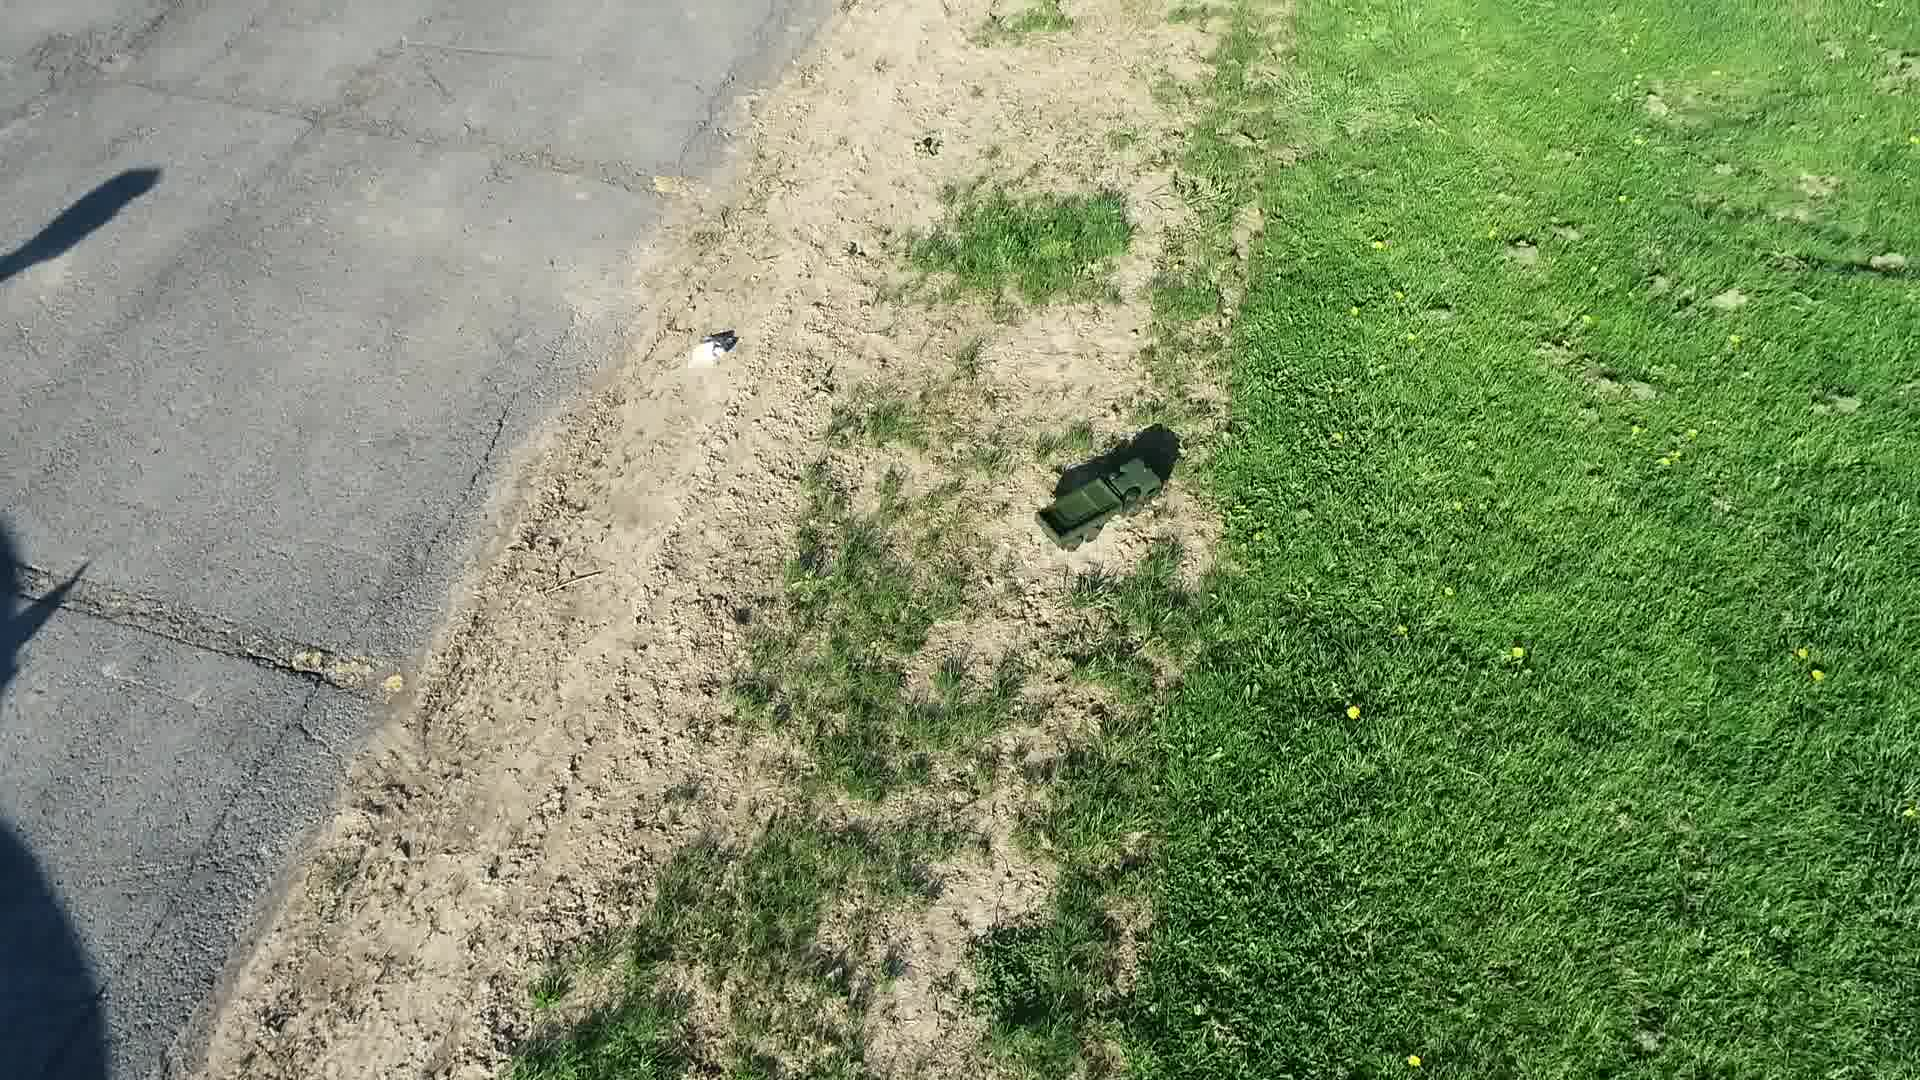transporter9: (1031, 448, 1170, 553)
